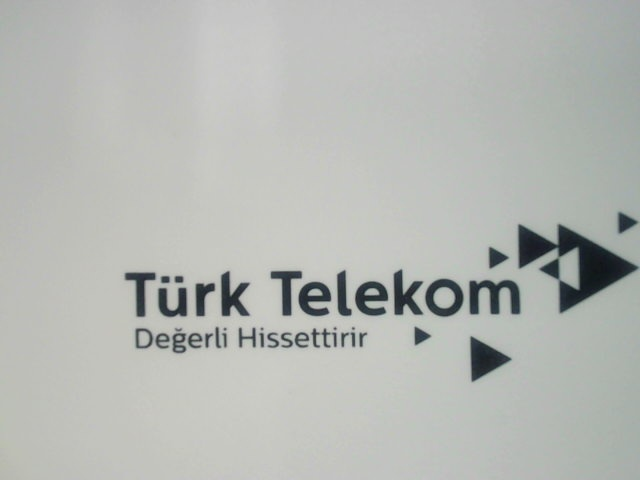AQ_TURKTelekom: (115, 206, 639, 392)
